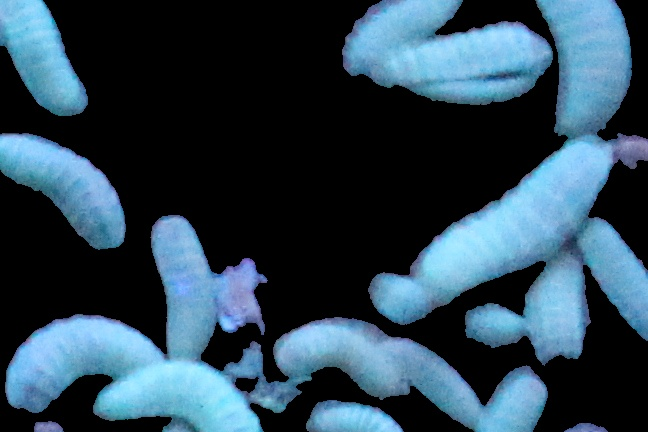larvae: (407, 134, 614, 295), (8, 316, 163, 408), (1, 130, 124, 245), (148, 217, 231, 360), (274, 315, 404, 406), (1, 1, 98, 120), (101, 359, 259, 432), (378, 36, 542, 104), (550, 1, 630, 134), (577, 213, 648, 348), (354, 1, 470, 76), (393, 335, 478, 423), (521, 259, 594, 358), (480, 362, 549, 432), (309, 395, 403, 432), (419, 77, 539, 103), (1, 12, 2, 100)
